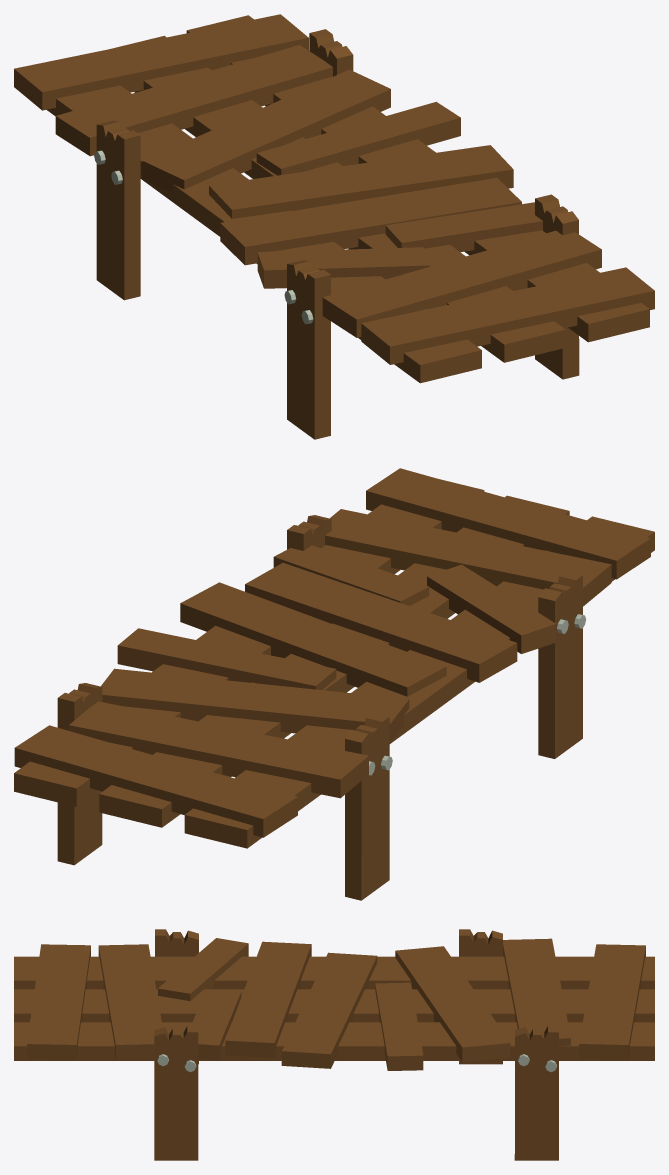
File: Dock_Supports.fbx
The picture shows the model from 3 angles, top to bottom: view 1: azimuth 30°, elevation 25°; view 2: azimuth 150°, elevation 25°; view 3: azimuth 270°, elevation 25°; orthographic projection. The views are drawn at different scales.
Parts seen in each view (by area): view 1: Cube.006; view 2: Cube.006; view 3: Cube.006.
Part boxes in pixels (x1=…): Cube.006: x1=14, y1=14, x2=654, y2=439; Cube.006: x1=14, y1=468, x2=654, y2=900; Cube.006: x1=14, y1=929, x2=654, y2=1160.
Size of the model in its own units: 4.04 by 2.04 by 9.24.
